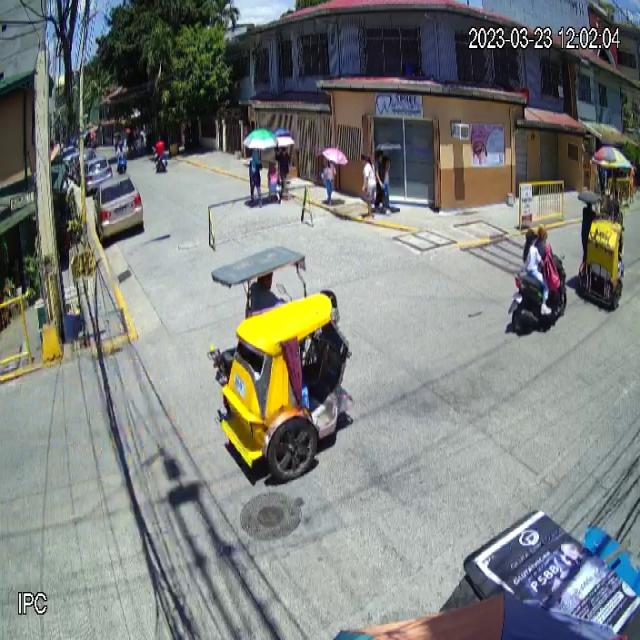Motorcycle: (507, 253, 567, 332)
Tricycle: (208, 243, 356, 484), (577, 190, 625, 313)
